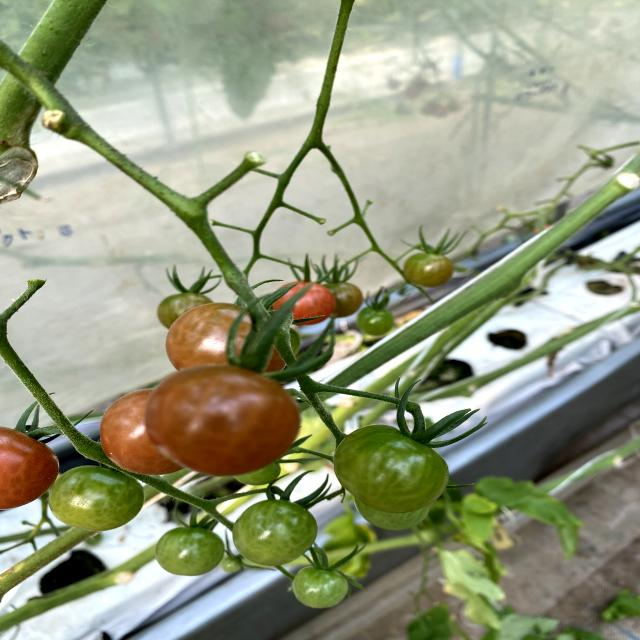ripe0: (332, 424, 449, 513), (233, 499, 317, 567), (54, 472, 144, 530), (156, 526, 224, 577), (293, 566, 350, 610)
ripe1: (145, 365, 300, 477), (165, 302, 276, 366), (100, 388, 151, 471)
ripe2: (0, 425, 56, 511), (281, 282, 335, 326)
